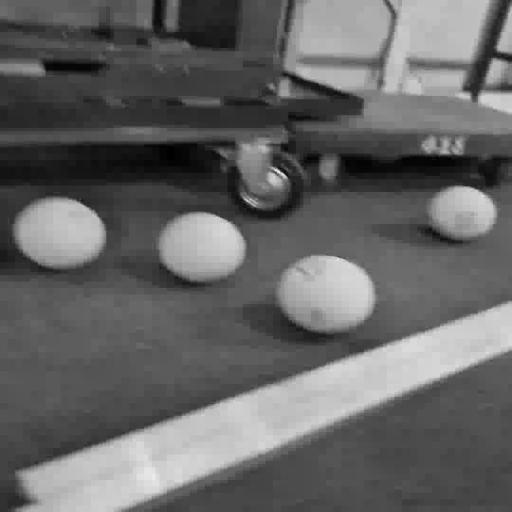fuel: (277, 256, 375, 334), (12, 197, 106, 269), (158, 212, 246, 283), (426, 186, 496, 242), (400, 77, 422, 94), (295, 65, 310, 79)
